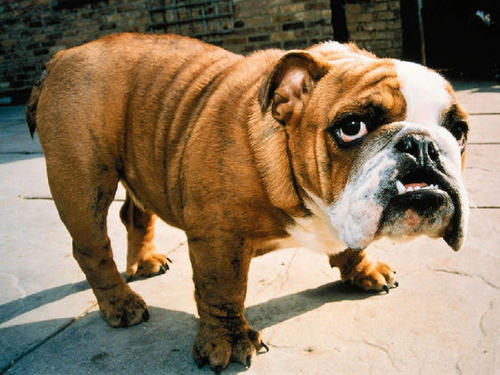dog: (262, 48, 478, 293)
